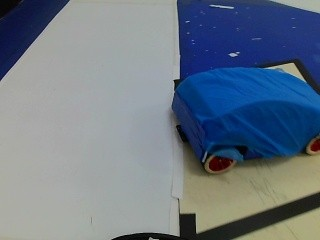car: (172, 67, 320, 172)
